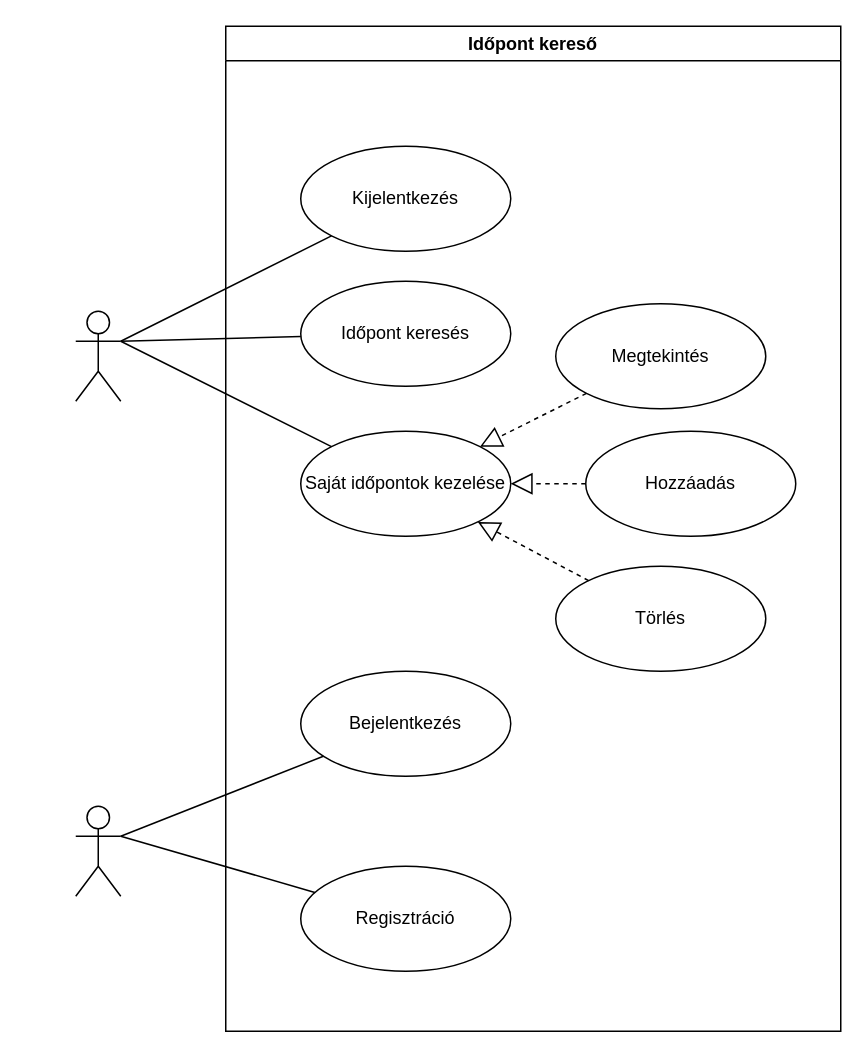
This 867x1058 diagram has some shape labels left out. Each missing label, with the box of its shape:
authorized user: (74, 310, 121, 401)
unauthorized user: (74, 805, 121, 896)
